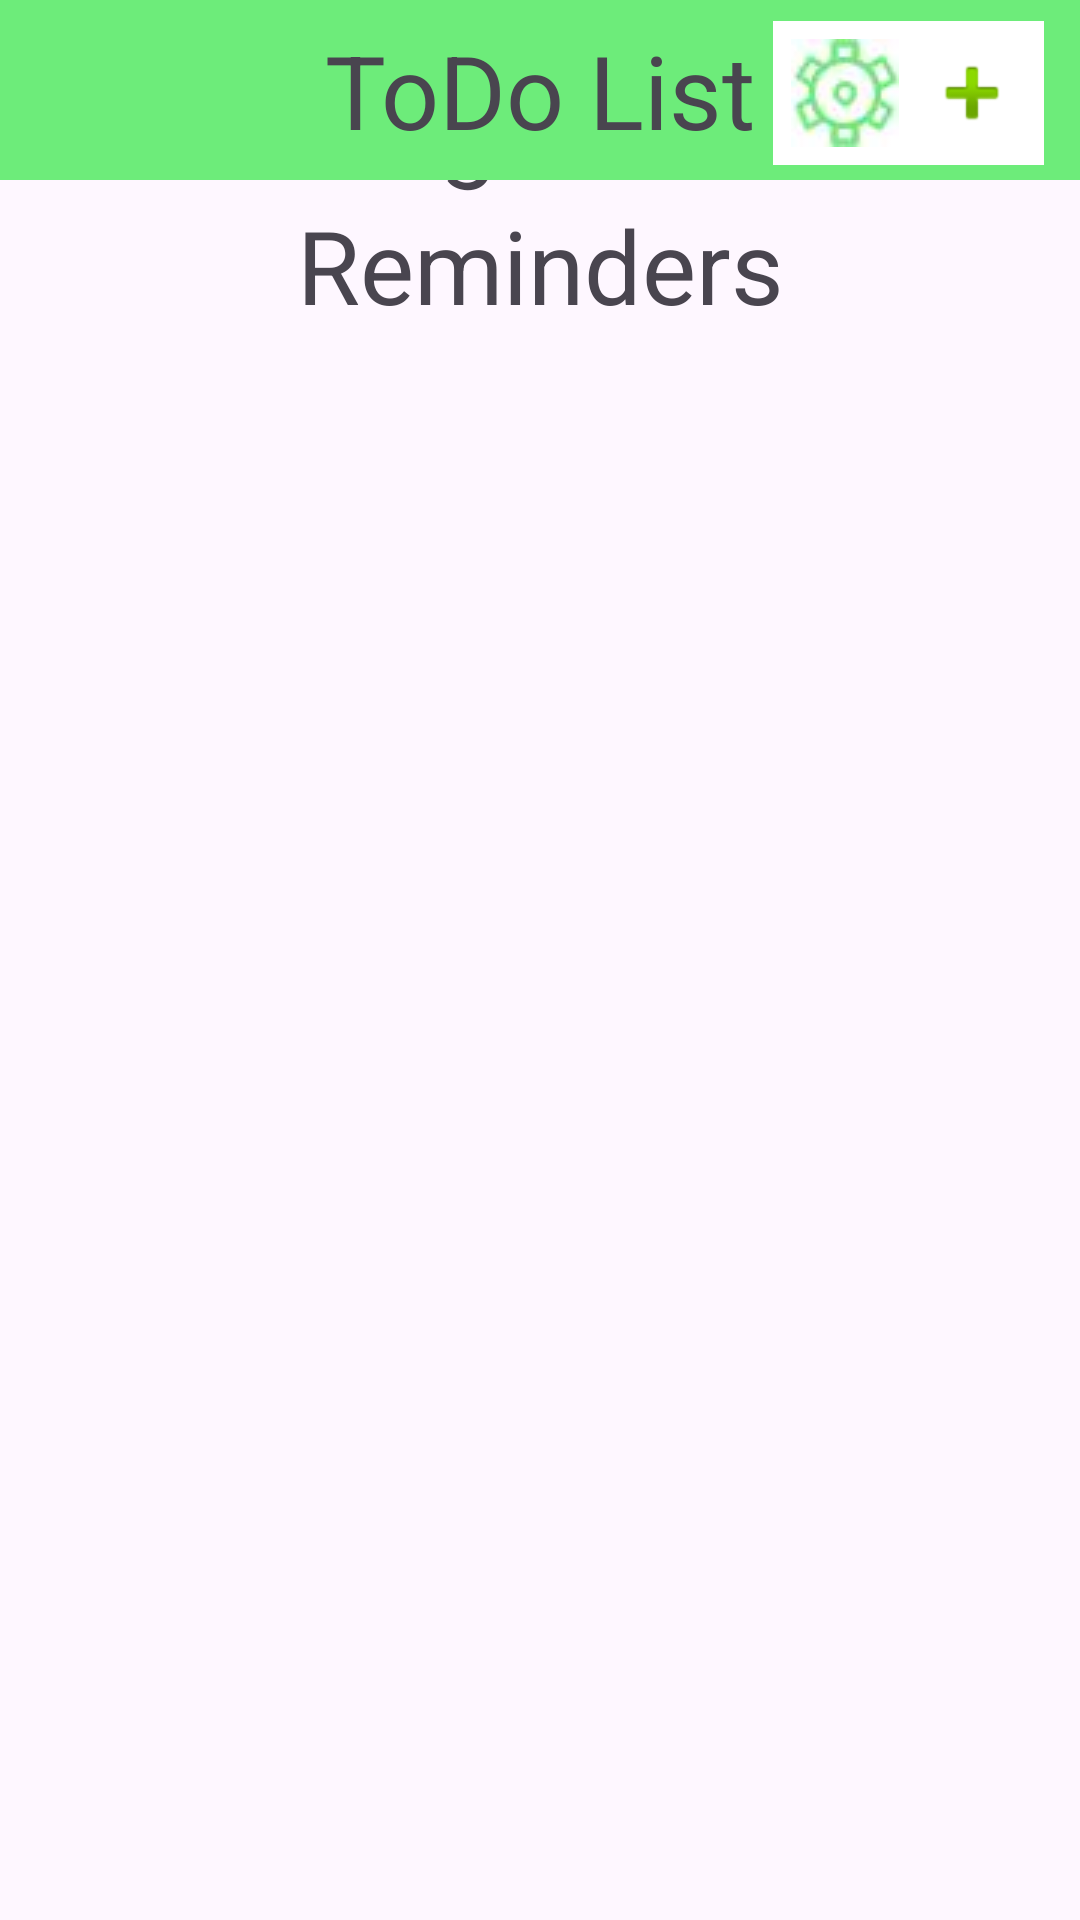

Named icons in this screenshot (1080×1920) and their centers, (x=x, y=y):
cogicon: (x=845, y=93)
